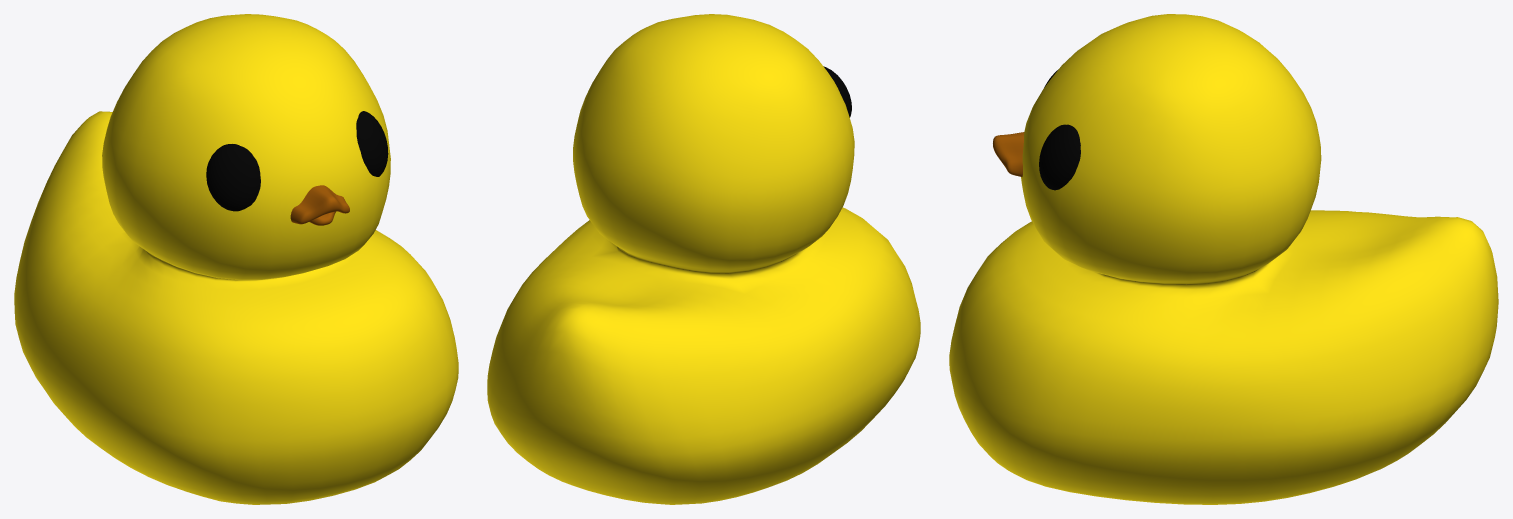
Rendered from RubberDucky.fbx.
3 renders of one model, left to right at view 1: azimuth 30°, elevation 25°; view 2: azimuth 150°, elevation 25°; view 3: azimuth 270°, elevation 25°, orthographic. The views are drawn at different scales.
Parts seen in each view (by area): view 1: Duck_Body, Duck_Eyes, Duck_Bill; view 2: Duck_Body; view 3: Duck_Body, Duck_Eyes, Duck_Bill.
Boxes of the visible parts, bbox=[...] form: Duck_Body: bbox=[14, 14, 458, 504]; Duck_Eyes: bbox=[206, 111, 388, 211]; Duck_Bill: bbox=[290, 185, 349, 225]; Duck_Body: bbox=[487, 14, 920, 504]; Duck_Body: bbox=[949, 14, 1498, 504]; Duck_Eyes: bbox=[1039, 69, 1080, 190]; Duck_Bill: bbox=[993, 132, 1024, 176].
Bounding box in the file's own units: 3.62 × 4.34 × 5.
